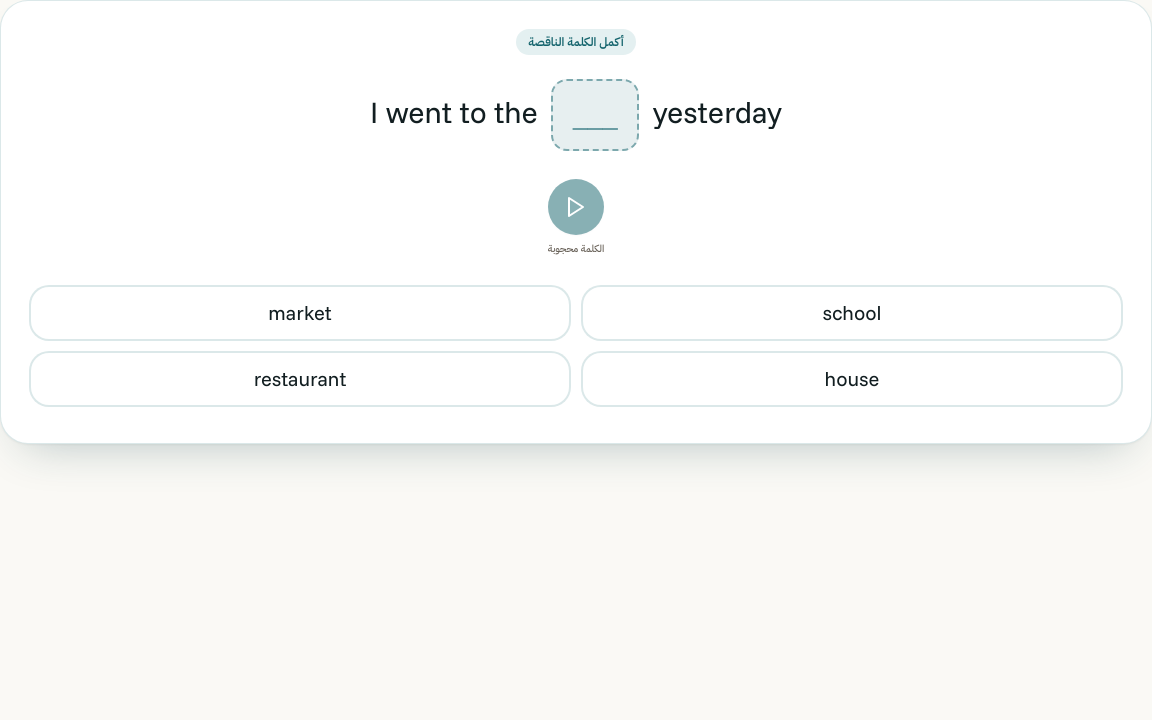
Scenario: answering › marks the answer even when the learner missed it
Click the button "house": click(852, 379) [581,351,1123,407]
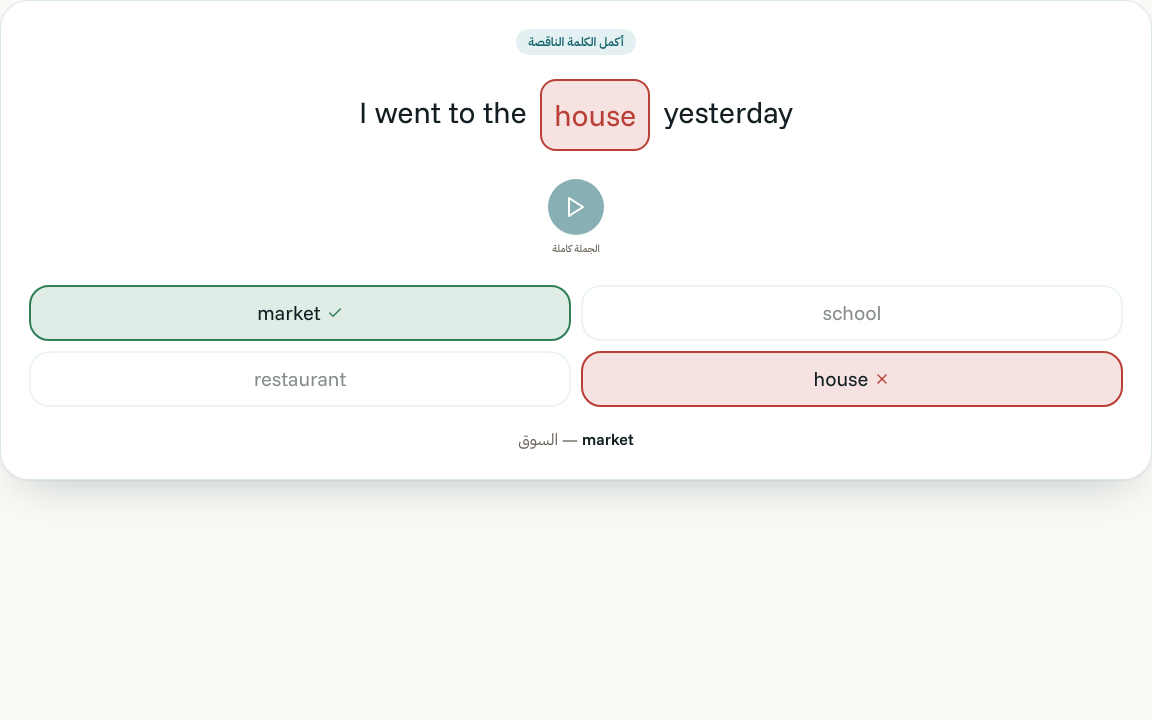
Result: the button "market" has class "border-success" at [29,285,571,341]
